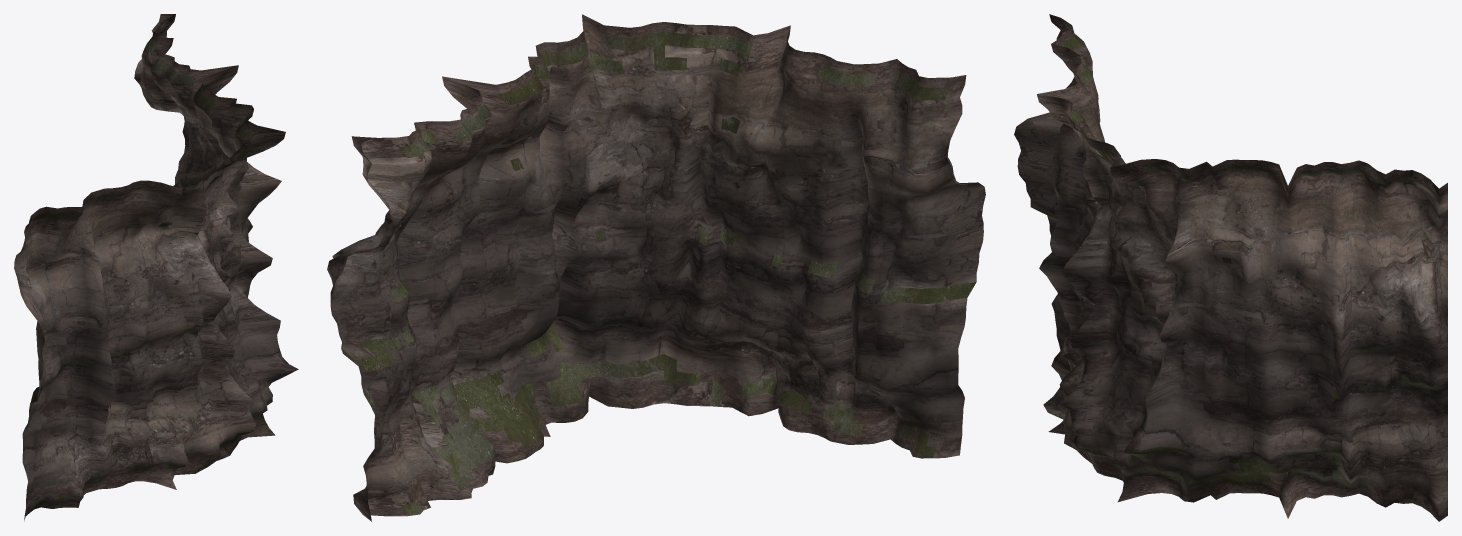
Rendered from cliff_wall_corner_inner_deep.glb.
3 renders of one model, left to right at view 1: azimuth 30°, elevation 25°; view 2: azimuth 150°, elevation 25°; view 3: azimuth 270°, elevation 25°, orthographic. The views are drawn at different scales.
Visible parts, largest first — view 1: cliff_wall_corner_inner_deep; view 2: cliff_wall_corner_inner_deep; view 3: cliff_wall_corner_inner_deep.
Boxes of the visible parts, box(x1,y1,x2,y2) form: cliff_wall_corner_inner_deep: box(14, 14, 298, 521); cliff_wall_corner_inner_deep: box(327, 14, 985, 521); cliff_wall_corner_inner_deep: box(1014, 14, 1447, 521).
Bounding box in the file's own units: 5.11 × 4.2 × 4.88.
2 materials, 2 textured.
